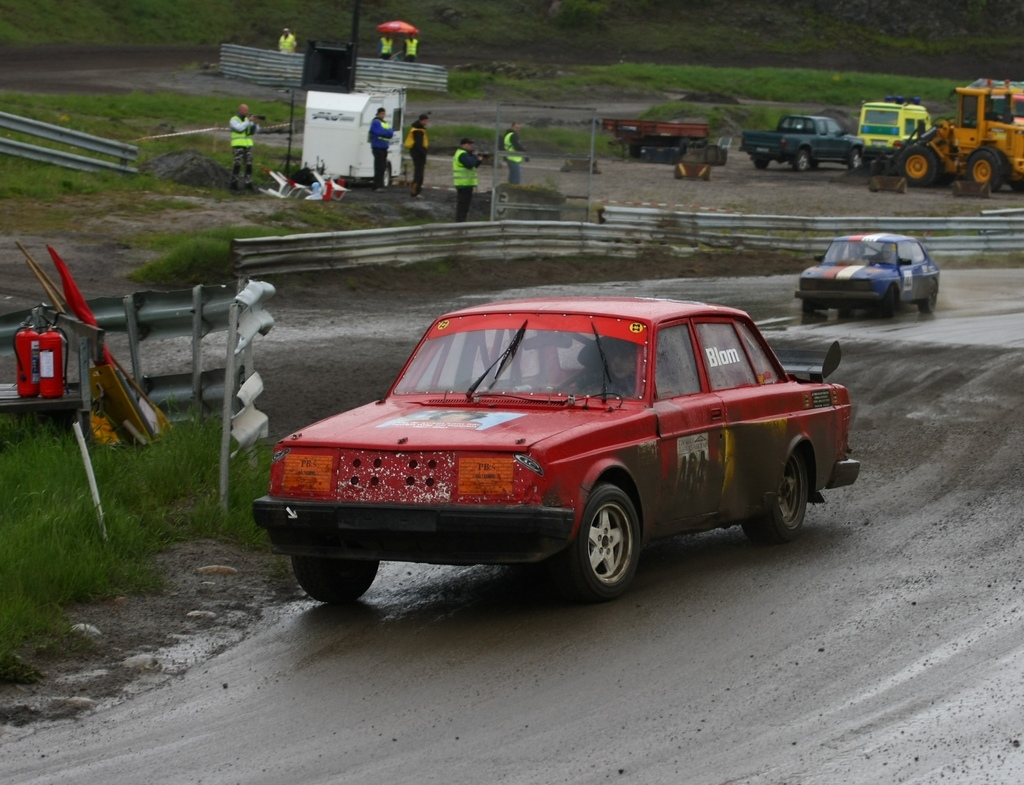Car: (253, 294, 860, 602), (793, 232, 938, 317)
